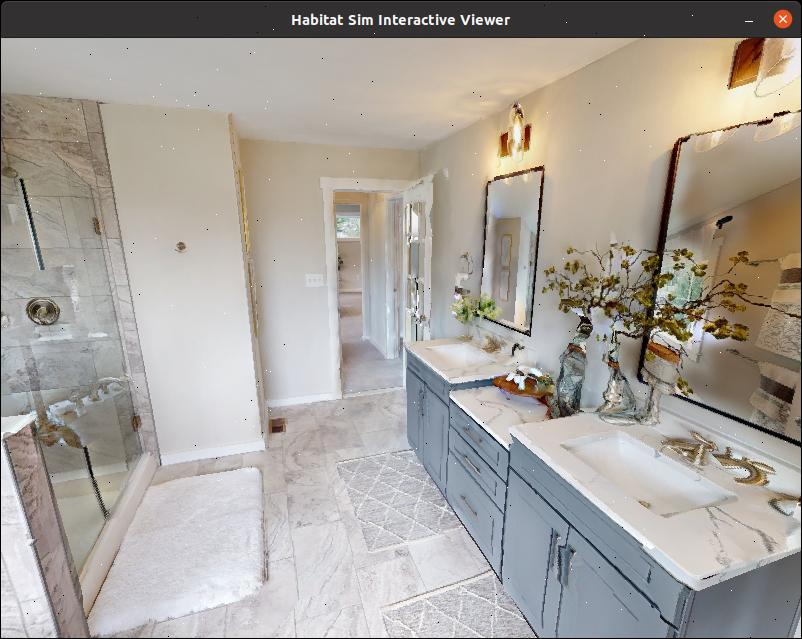door-frame: (325, 175, 434, 396)
shower: (0, 88, 204, 604)
sink: (539, 397, 802, 639), (401, 327, 516, 451)
